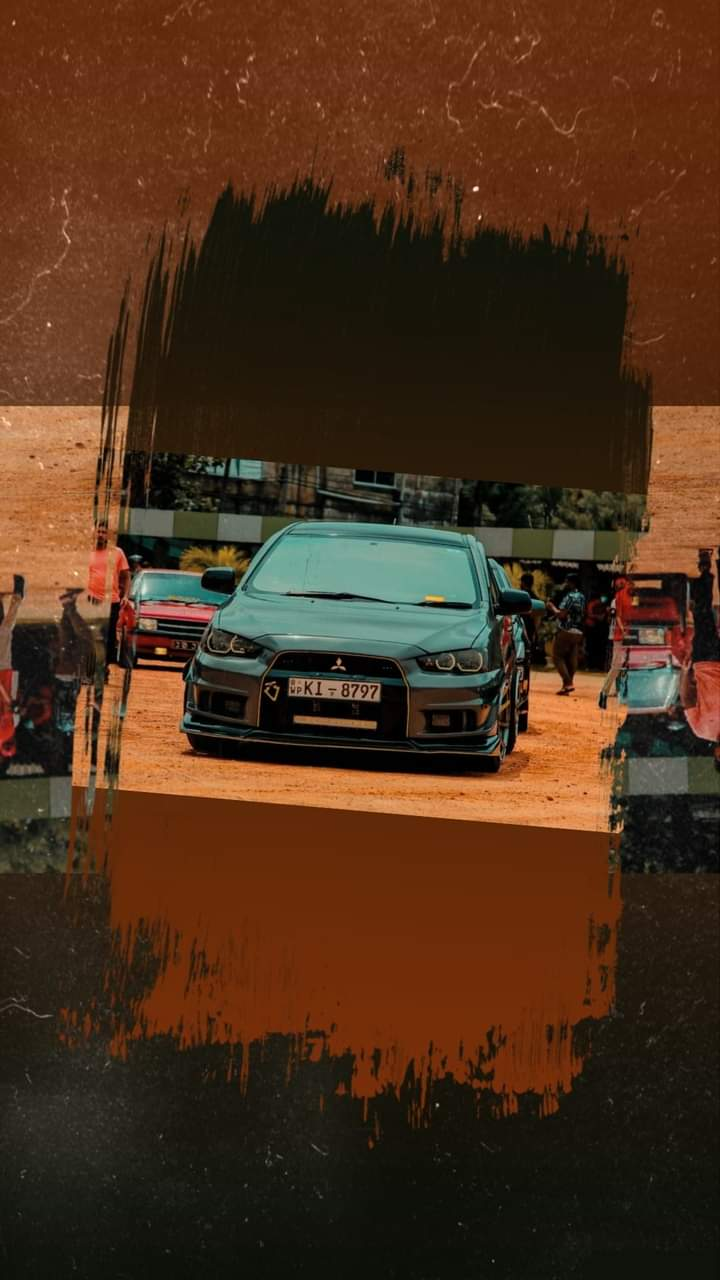number_plate: (290, 676, 381, 705)
